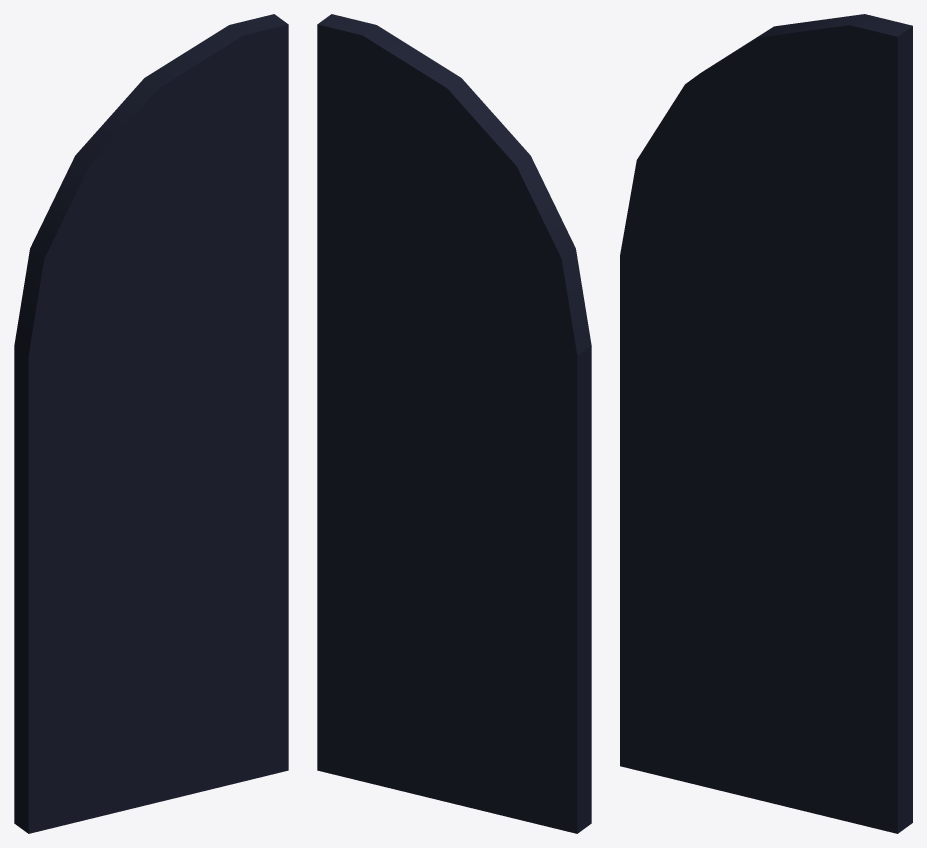
The model's file is CemeteryCryptEntranceDoor.fbx.
3 views of the same model, side by side, from view 1: azimuth 30°, elevation 25°; view 2: azimuth 150°, elevation 25°; view 3: azimuth 330°, elevation 25° (orthographic). The views are drawn at different scales.
Parts seen in each view (by area): view 1: CemeteryCryptEntranceDoor; view 2: CemeteryCryptEntranceDoor; view 3: CemeteryCryptEntranceDoor.
Boxes of the visible parts, <box> form: CemeteryCryptEntranceDoor: <box>14,14,288,833</box>; CemeteryCryptEntranceDoor: <box>317,14,591,833</box>; CemeteryCryptEntranceDoor: <box>620,14,912,833</box>.
Size of the model in its own units: 111 by 305 by 10.55.
